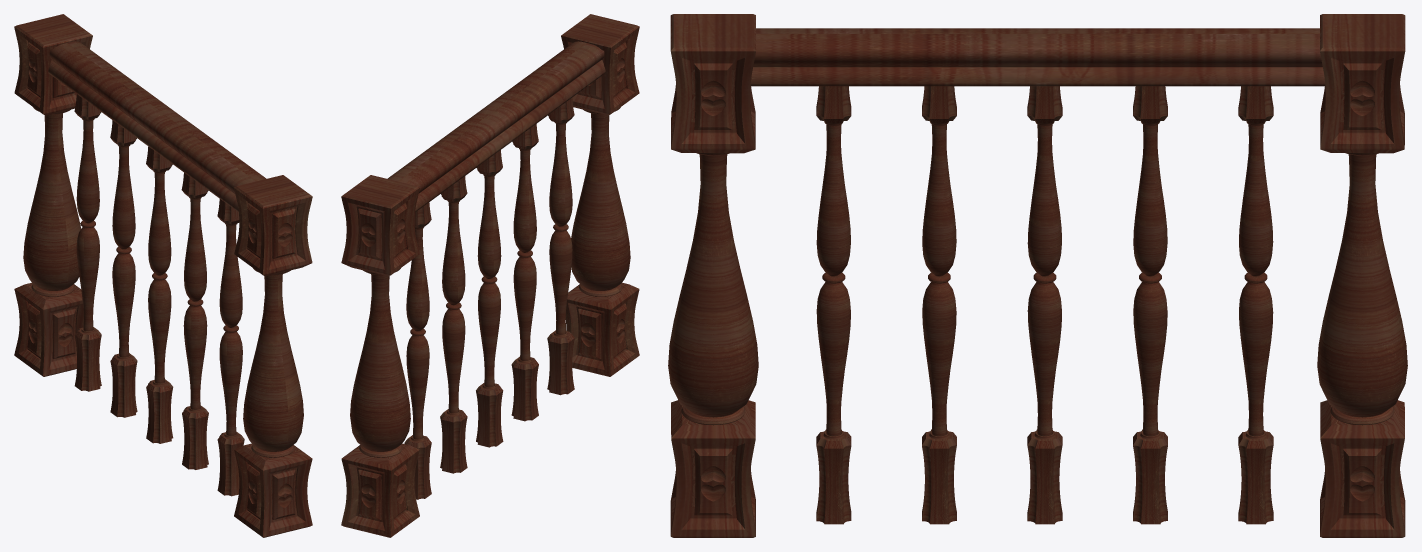
Rendered from DTYDFittings.fbx_RailingShort.fbx.
3 views of the same model, side by side, from view 1: azimuth 30°, elevation 25°; view 2: azimuth 150°, elevation 25°; view 3: azimuth 270°, elevation 25° (orthographic). The views are drawn at different scales.
Visible parts, largest first — view 1: BézierCurve.049, Cube.085, BézierCurve.050, Cube.084, BézierCurve.052, BézierCurve.051; view 2: BézierCurve.049, Cube.084, BézierCurve.050, Cube.085, BézierCurve.051, BézierCurve.052; view 3: BézierCurve.049, BézierCurve.050, Cube.085, Cube.084, BézierCurve.051, BézierCurve.052.
Part boxes in pixels (<box>): BézierCurve.049: <box>74,94,244,496</box>; Cube.085: <box>234,175,312,537</box>; BézierCurve.050: <box>48,41,266,212</box>; Cube.084: <box>14,14,92,376</box>; BézierCurve.052: <box>243,274,303,451</box>; BézierCurve.051: <box>23,113,80,290</box>; BézierCurve.049: <box>404,98,574,499</box>; Cube.084: <box>341,175,419,537</box>; BézierCurve.050: <box>387,41,605,212</box>; Cube.085: <box>561,14,639,376</box>; BézierCurve.051: <box>350,274,410,451</box>; BézierCurve.052: <box>571,113,630,290</box>; BézierCurve.049: <box>816,86,1273,524</box>; BézierCurve.050: <box>750,28,1325,86</box>; Cube.085: <box>670,14,755,537</box>; Cube.084: <box>1320,14,1405,537</box>; BézierCurve.051: <box>1317,154,1407,417</box>; BézierCurve.052: <box>668,154,758,417</box>.
Bounding box in the file's own units: 66.1 × 394 × 539.
Materials: 2 (2 with a texture image).
